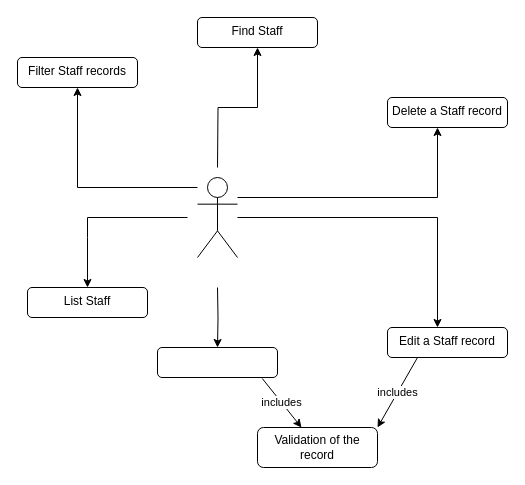
Some shapes in this 525 by 485 pixel diagram are drawn without their labels. The box of each missing label's shape, as (x1, y1, x2, y2) in pixels:
Add a book record: (156, 346, 278, 378)
Staff: (196, 176, 238, 258)
